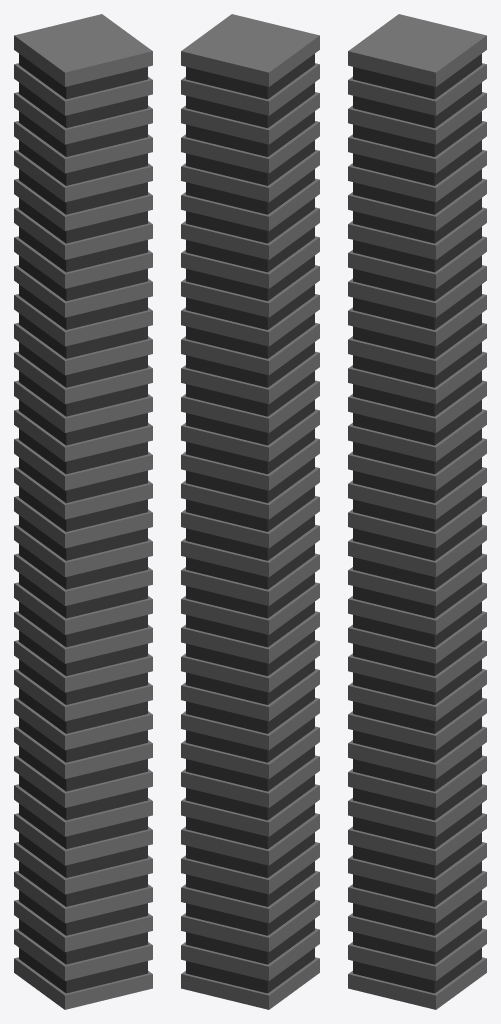
The model's file is Ladder.fbx.
The picture shows the model from 3 angles, left to right: view 1: azimuth 30°, elevation 25°; view 2: azimuth 150°, elevation 25°; view 3: azimuth 330°, elevation 25°; orthographic projection.
Visible parts, largest first — view 1: Cube.026; view 2: Cube.026; view 3: Cube.026.
Part boxes in pixels (x1=…): Cube.026: x1=14, y1=14, x2=152, y2=1009; Cube.026: x1=181, y1=14, x2=319, y2=1009; Cube.026: x1=348, y1=14, x2=486, y2=1009.
Size of the model in its own units: 75 by 763 by 75.
